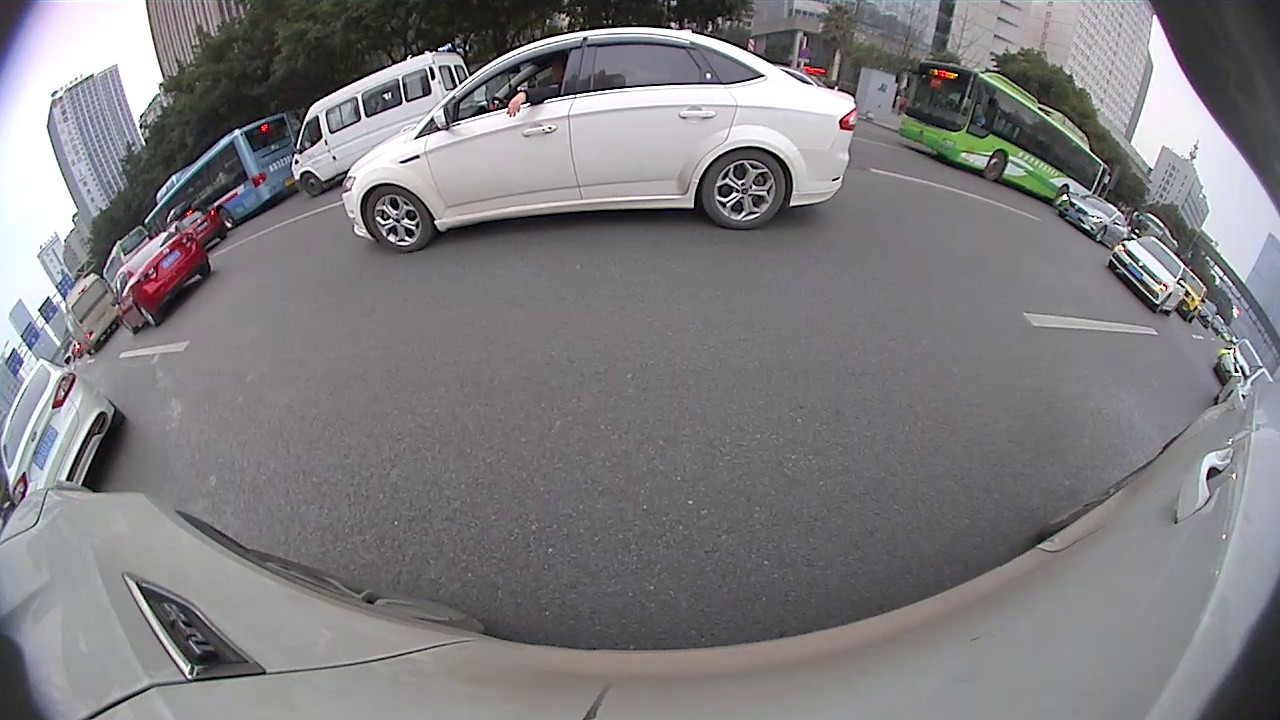bus: (894, 60, 1101, 196), (141, 111, 297, 234), (66, 273, 121, 353)
car: (342, 24, 858, 251), (292, 52, 469, 197), (1, 361, 127, 528), (114, 228, 211, 332), (1105, 235, 1188, 316), (1055, 194, 1122, 244), (180, 208, 222, 246)
front: (356, 186, 432, 253), (983, 146, 1007, 183), (298, 171, 324, 196), (1094, 223, 1108, 244)
rear: (699, 144, 787, 232), (136, 305, 159, 330), (217, 204, 236, 230)
